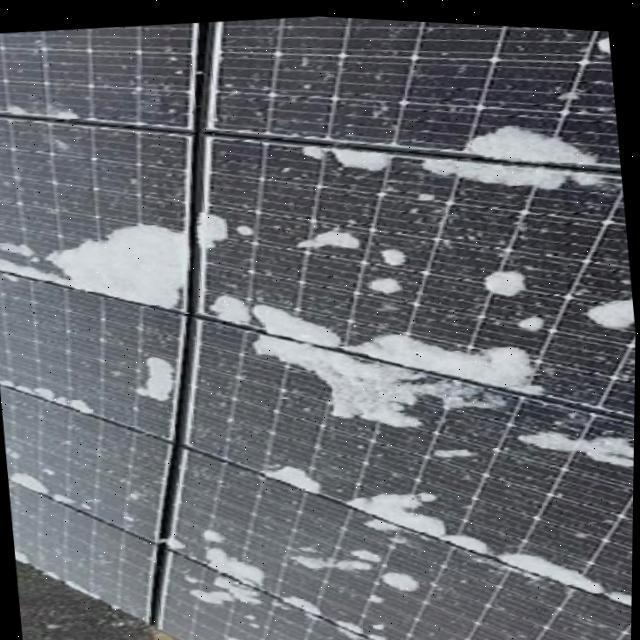Anomaly Solar Panel: (188, 314, 636, 592), (201, 132, 636, 412), (172, 444, 633, 640), (205, 12, 621, 185), (0, 120, 197, 308), (0, 275, 194, 440), (1, 386, 183, 545), (0, 19, 205, 136), (10, 484, 176, 623), (141, 551, 376, 640)
Snow: (235, 324, 507, 452), (0, 182, 195, 320), (345, 321, 547, 391), (501, 539, 634, 601), (188, 520, 272, 607), (456, 115, 596, 167), (346, 472, 456, 533), (424, 154, 604, 187), (0, 365, 100, 422), (248, 299, 346, 352), (521, 419, 635, 461), (10, 468, 103, 513), (144, 38, 192, 122), (285, 542, 386, 576), (189, 569, 260, 611), (298, 140, 395, 170), (443, 514, 500, 564), (0, 100, 84, 132), (127, 351, 175, 404), (262, 453, 326, 492), (583, 290, 636, 331), (332, 609, 396, 640), (292, 224, 364, 248), (373, 562, 424, 595), (209, 287, 255, 322), (280, 583, 327, 617), (482, 261, 531, 293), (119, 479, 148, 530), (431, 433, 477, 463), (201, 210, 228, 247), (518, 304, 550, 330), (233, 212, 260, 242), (379, 241, 406, 263), (595, 26, 611, 58), (373, 273, 401, 291), (16, 546, 36, 570), (220, 629, 258, 640), (610, 164, 624, 192), (155, 19, 187, 31), (170, 532, 188, 550), (40, 462, 59, 477)
